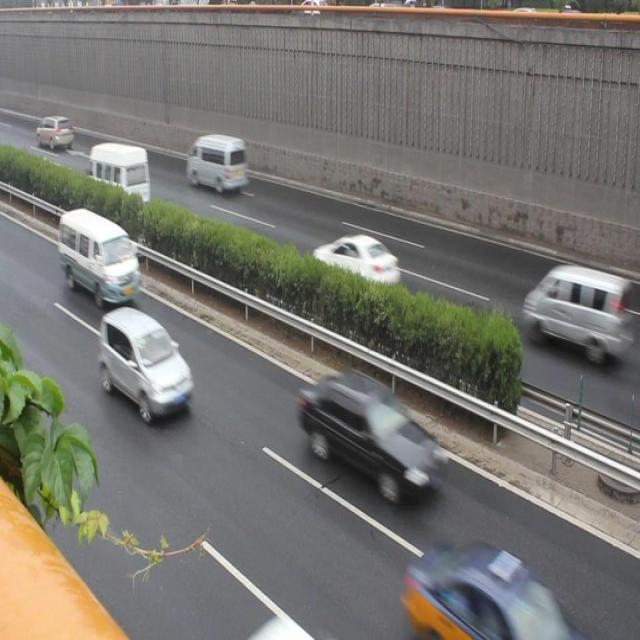car: (396, 531, 587, 640), (297, 370, 444, 503), (98, 304, 199, 426), (312, 231, 401, 302), (35, 111, 76, 153)
truck: (522, 258, 627, 362), (55, 204, 141, 307), (236, 596, 339, 640), (183, 127, 245, 200), (90, 139, 154, 207)
